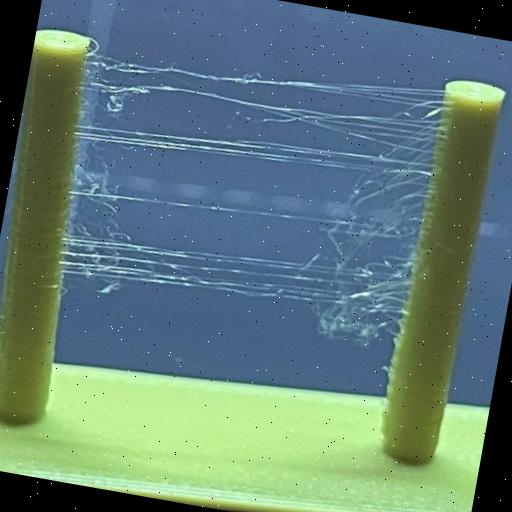stringing: (78, 31, 444, 206)
